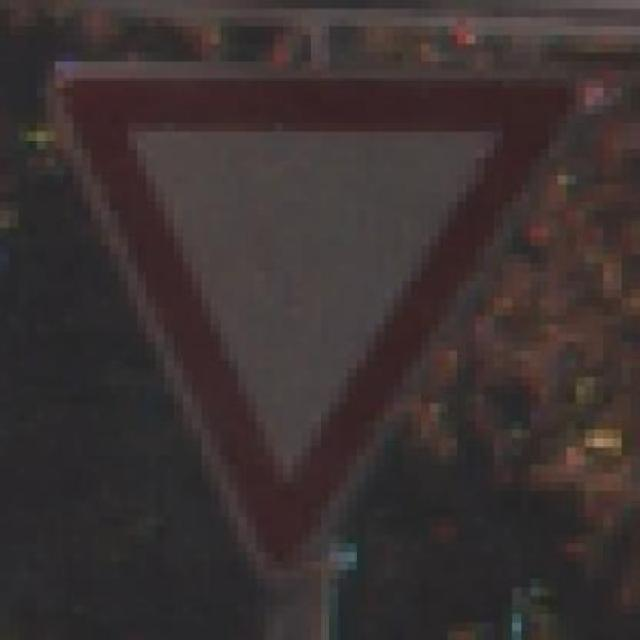Give Way: (36, 44, 613, 579)
